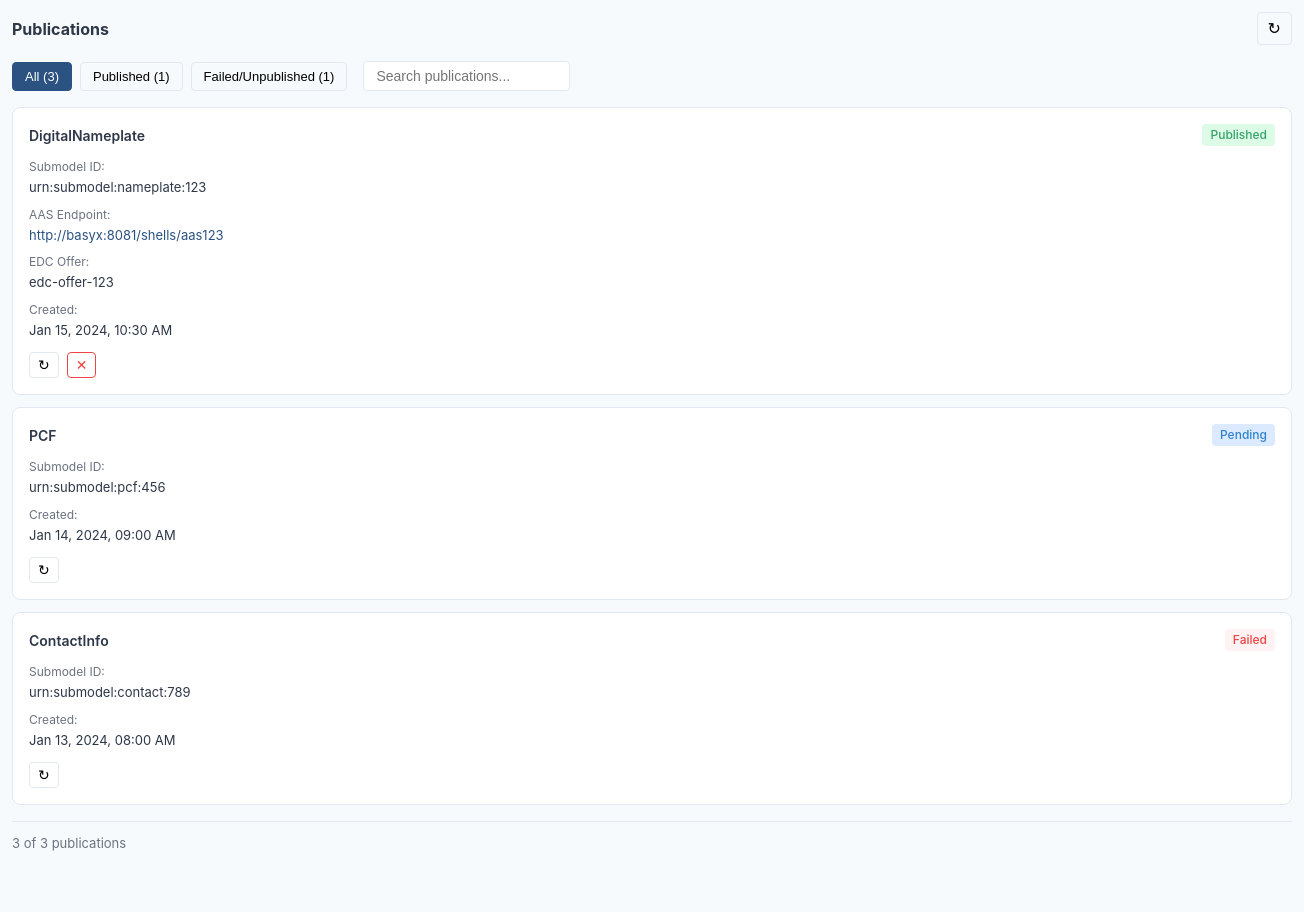
Test: PublicationManager › should update summary when filtered
expect the text "3 of 3 publications" is shown: met, box [12, 835, 126, 851]
Click the button "Published (1)" at point(131, 76), box [80, 62, 183, 90]
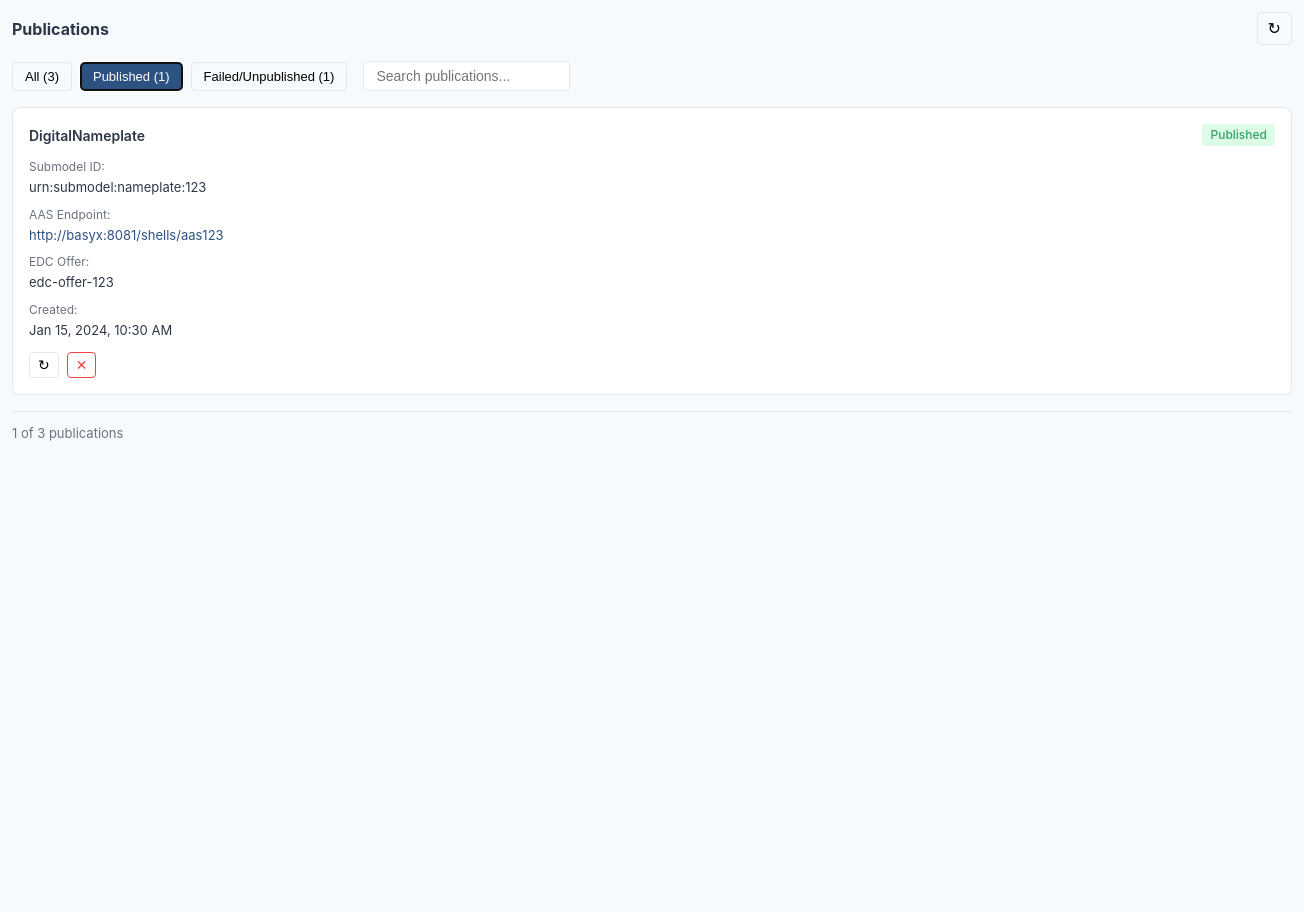
expect the text "1 of 3 publications" is shown: met, box [12, 425, 123, 441]
